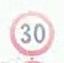limite 30: (8, 10, 55, 57)
